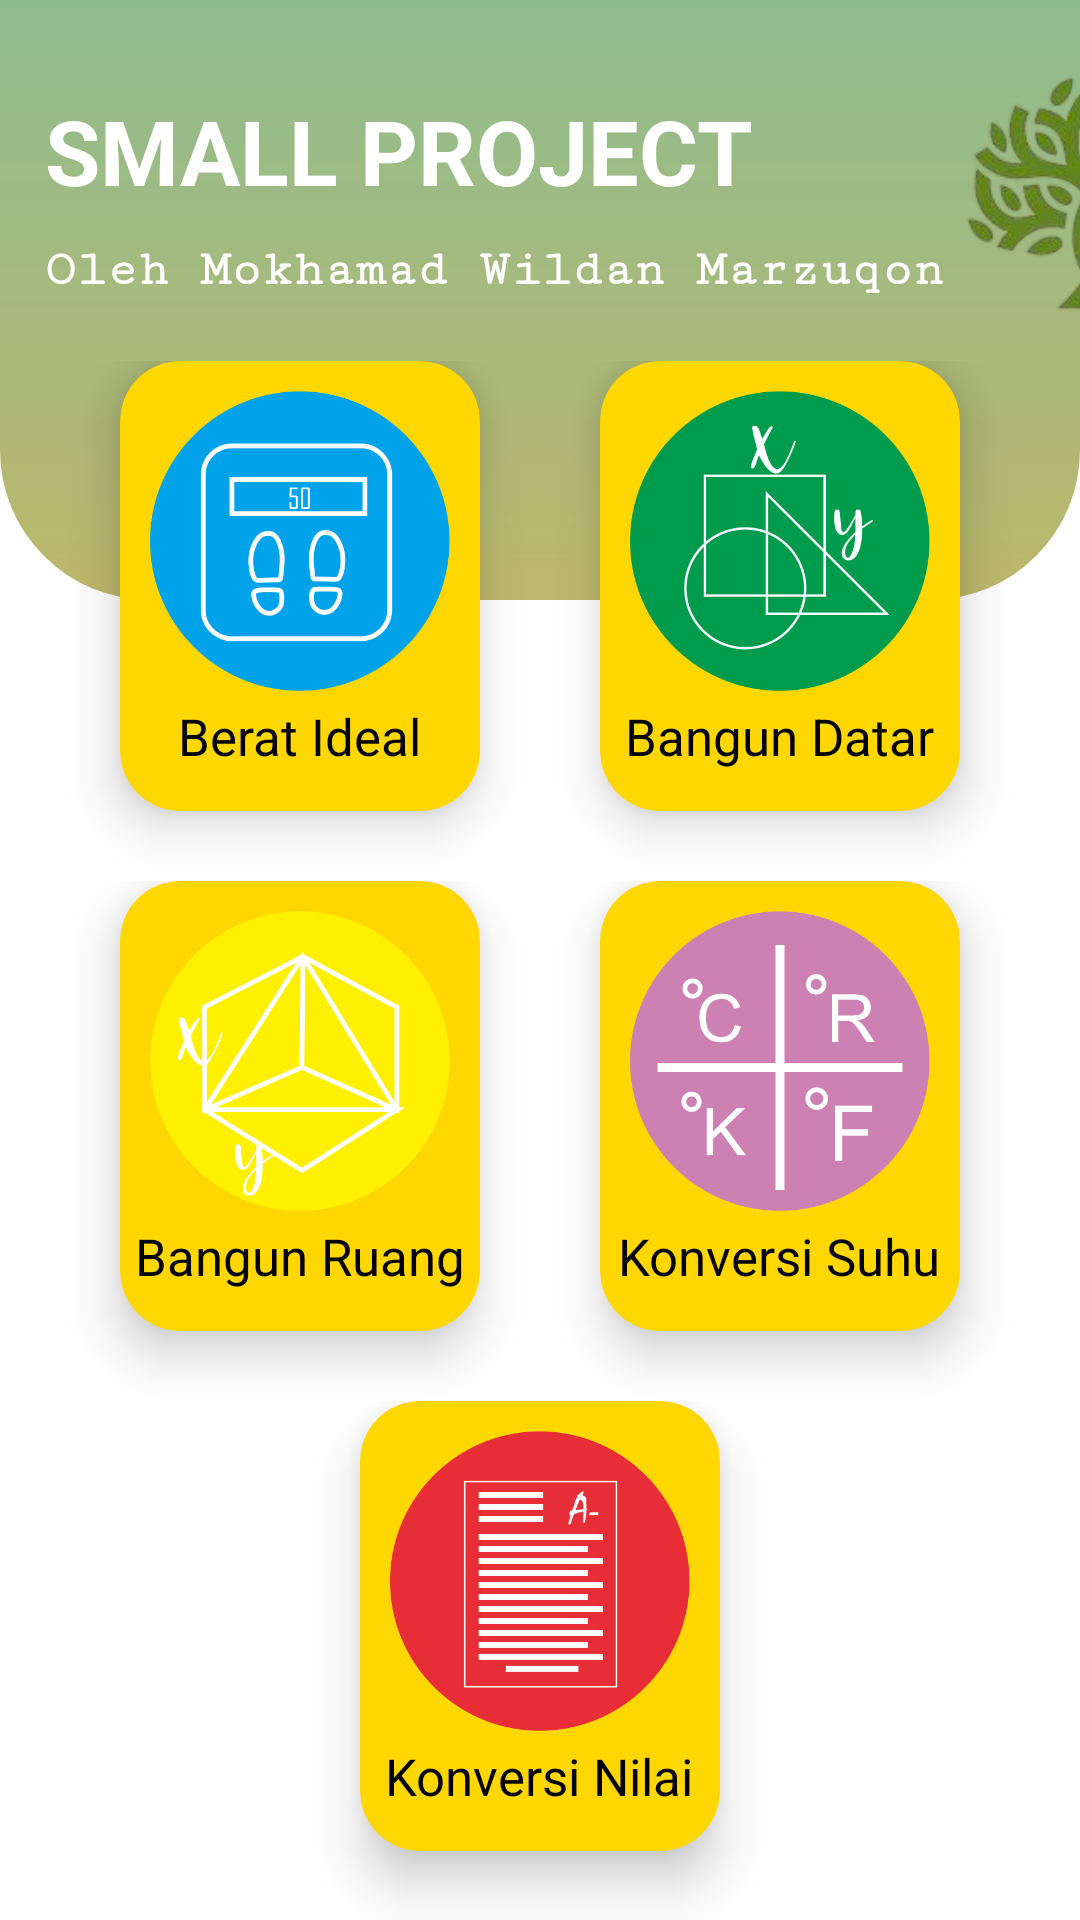

Icons on this 1080×1920 Android screen, each with the point to tap as (x=x, y=y):
home timbangan: (x=300, y=541)
